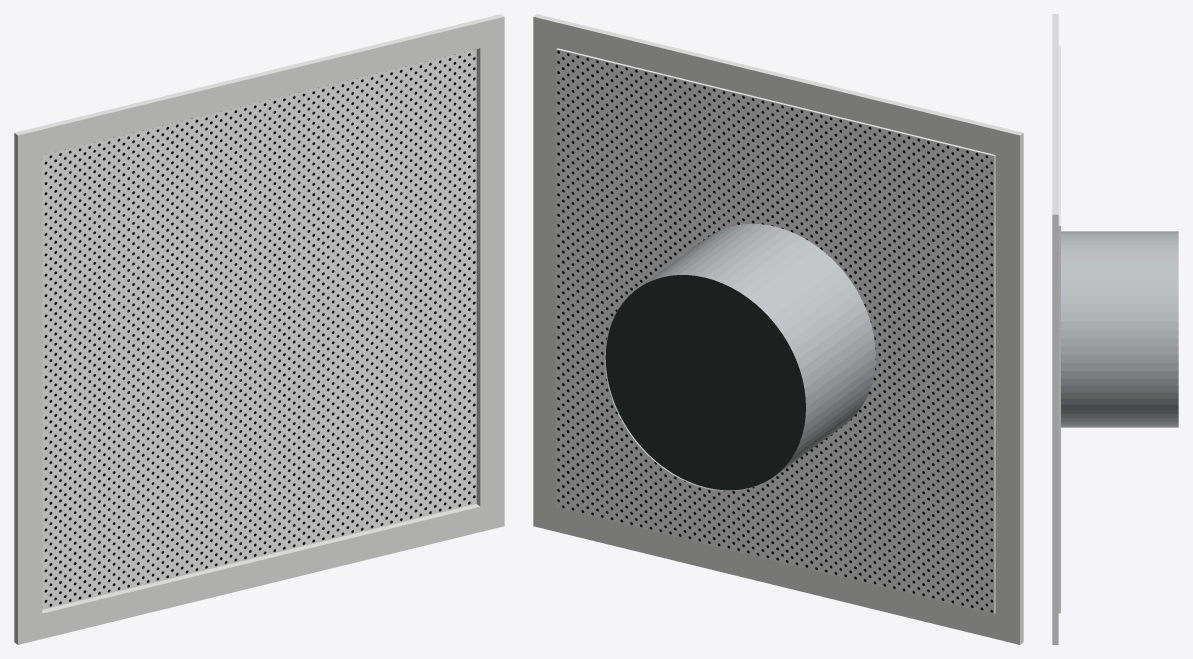
File: edqf-square.glb
The picture shows the model from 3 angles, left to right: view 1: azimuth 30°, elevation 25°; view 2: azimuth 150°, elevation 25°; view 3: azimuth 270°, elevation 25°; orthographic projection. The views are drawn at different scales.
Parts seen in each view (by area): view 1: Profile_piastra.008, Profile_cornice.005, Profile_cornice.004, Profile_cornice.006, Profile_cornice.007; view 2: Profile_piastra.008, Interno.015, Collare.014, Profile_cornice.005, Profile_cornice.006, Profile_cornice.004, Profile_cornice.007; view 3: Collare.014, Profile_cornice.007, Profile_piastra.008, Profile_cornice.005.
Boxes of the visible parts, x1,y1,x2,y2 form: Profile_piastra.008: (42,49,476,609); Profile_cornice.005: (14,14,504,160); Profile_cornice.004: (14,501,504,644); Profile_cornice.006: (14,155,42,619); Profile_cornice.007: (476,42,504,506); Profile_piastra.008: (556,48,995,614); Interno.015: (605,275,805,490); Collare.014: (604,224,875,490); Profile_cornice.005: (533,14,1023,160); Profile_cornice.006: (995,155,1023,619); Profile_cornice.004: (533,501,1023,644); Profile_cornice.007: (533,42,557,506); Collare.014: (1061,231,1178,427); Profile_cornice.007: (1052,236,1058,623); Profile_piastra.008: (1058,45,1060,613); Profile_cornice.005: (1052,14,1058,236).
Bounding box in the file's own units: 0.3 × 0.3 × 0.08.
4 materials, 1 textured.
